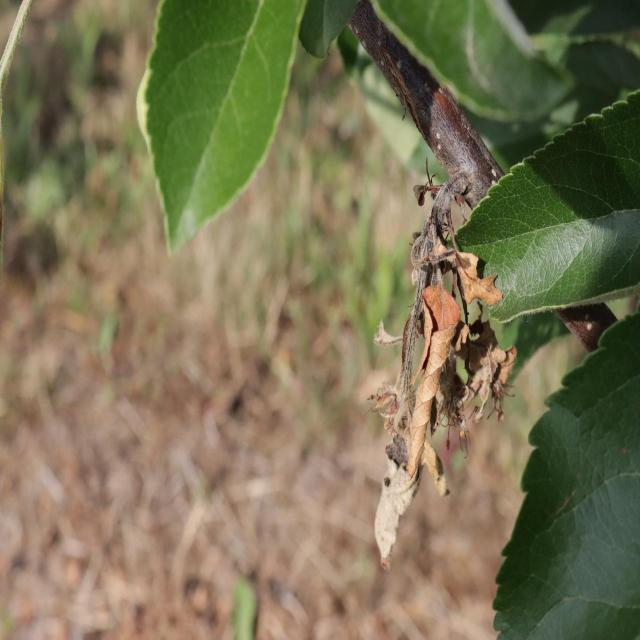-FireBlight-: (372, 181, 522, 547)
